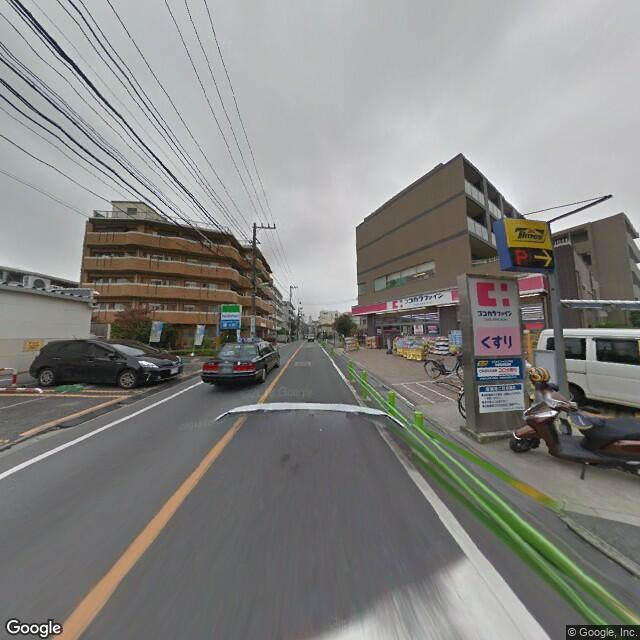family_mart: (218, 303, 242, 329)
